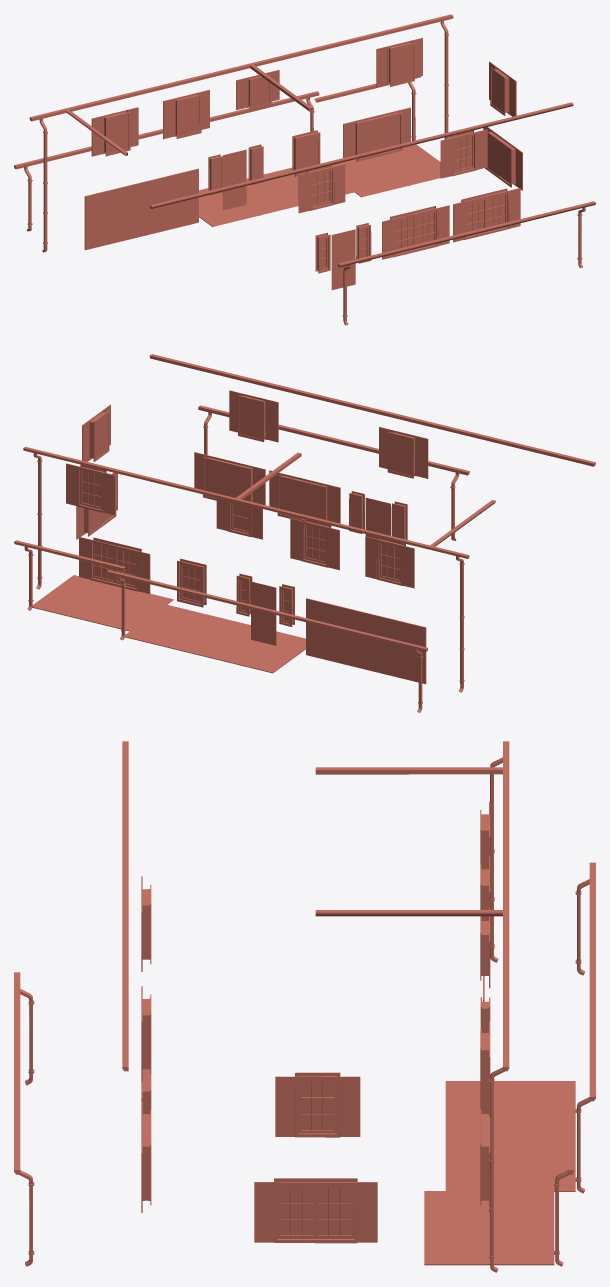
The model's file is HouseA_DETAIL.fbx.
The picture shows the model from 3 angles, top to bottom: view 1: azimuth 30°, elevation 25°; view 2: azimuth 150°, elevation 25°; view 3: azimuth 270°, elevation 25°; orthographic projection. The views are drawn at different scales.
Visible parts, largest first — view 1: HouseA_DETAIL_LOD0; view 2: HouseA_DETAIL_LOD0; view 3: HouseA_DETAIL_LOD0.
Part boxes in pixels (x1,y1,x2,y2): HouseA_DETAIL_LOD0: (14,14,595,325); HouseA_DETAIL_LOD0: (14,354,595,712); HouseA_DETAIL_LOD0: (14,741,595,1272).
Size of what is drawn, in the model's own units: 1780 by 559 by 1344.
